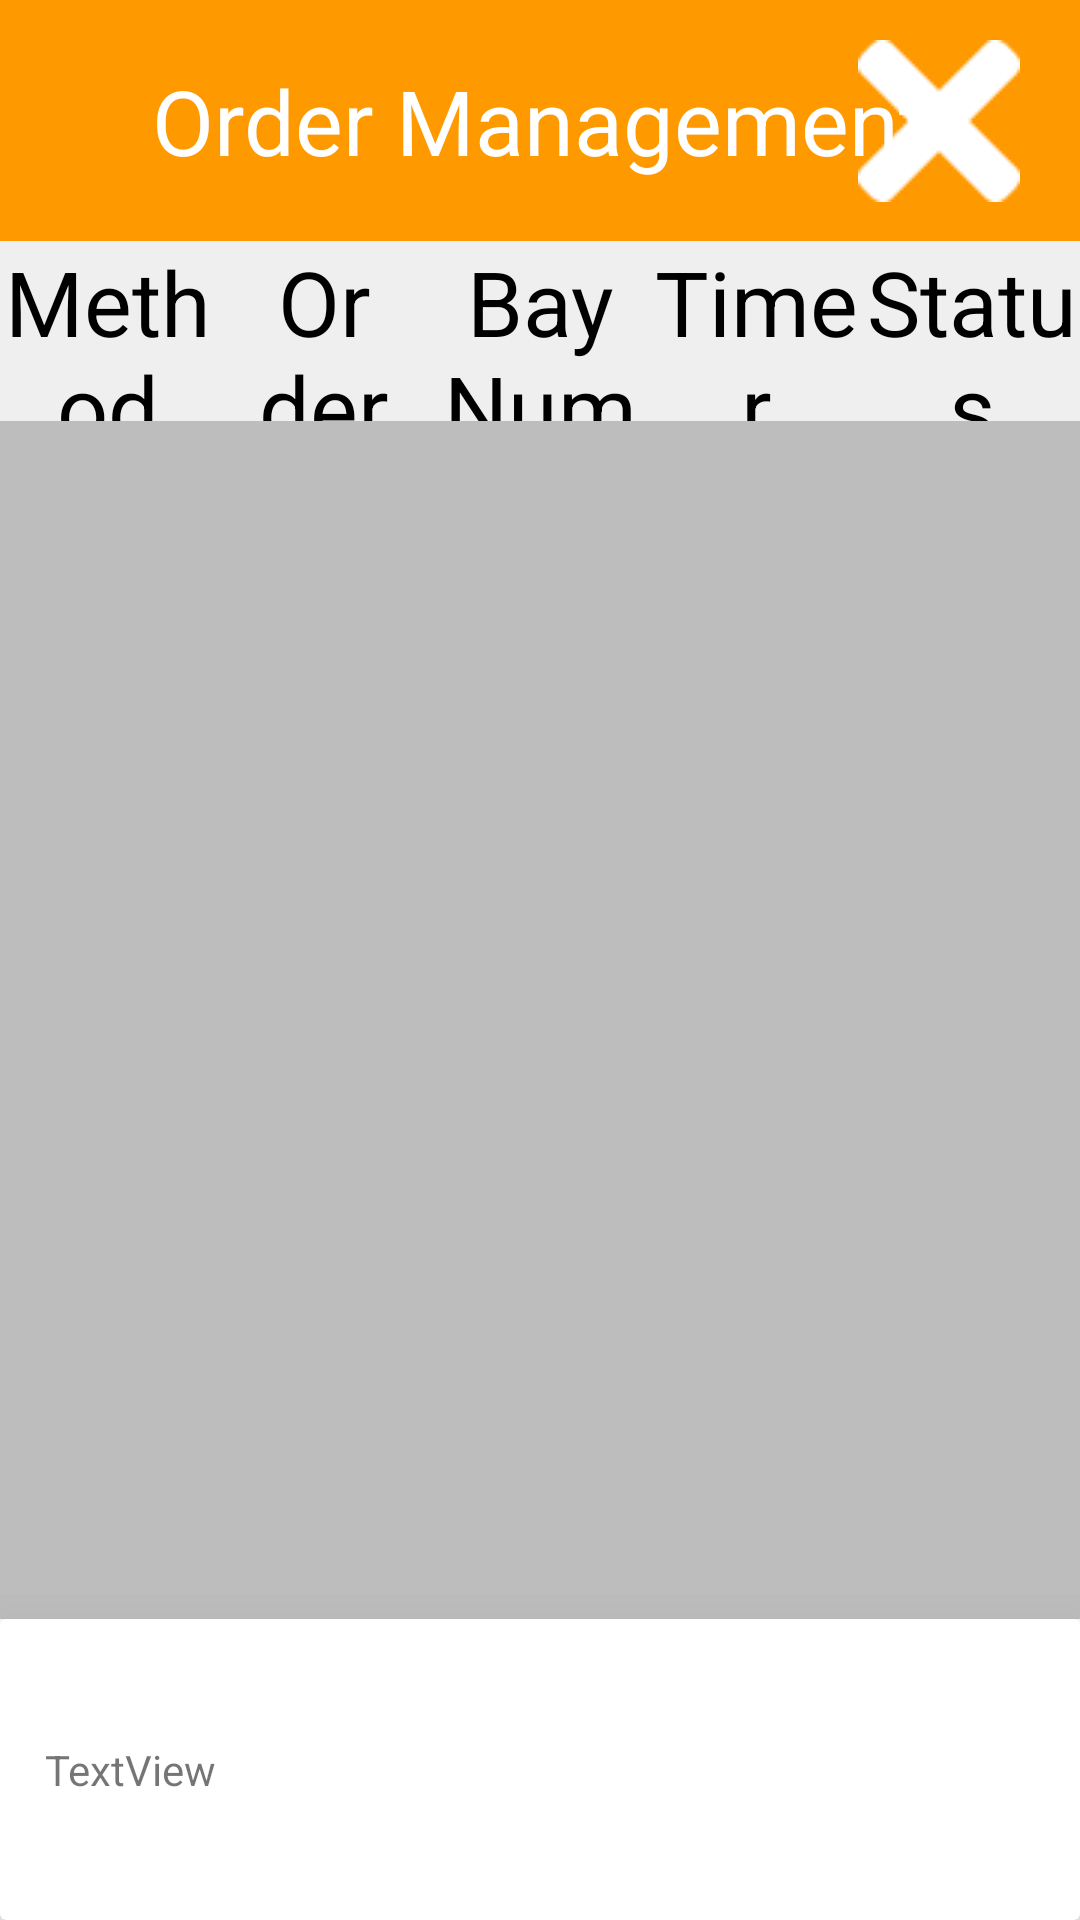

Locate icon controls on the screen. Image size 1080x1920, boxes as (x1, y1, x2, y2).
close: (858, 40, 1020, 202)
